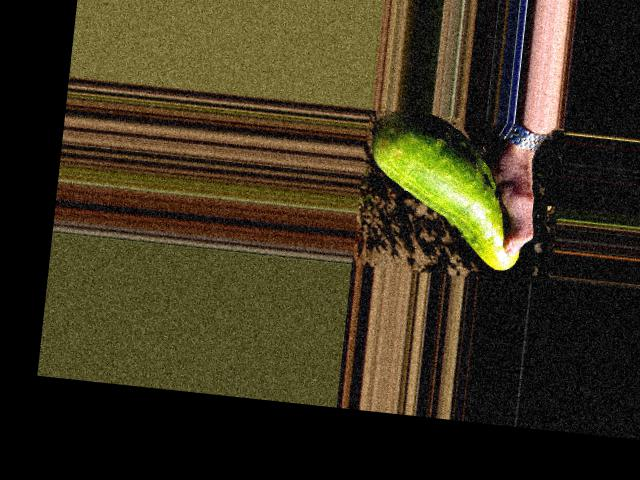cucumber: (358, 107, 533, 271)
